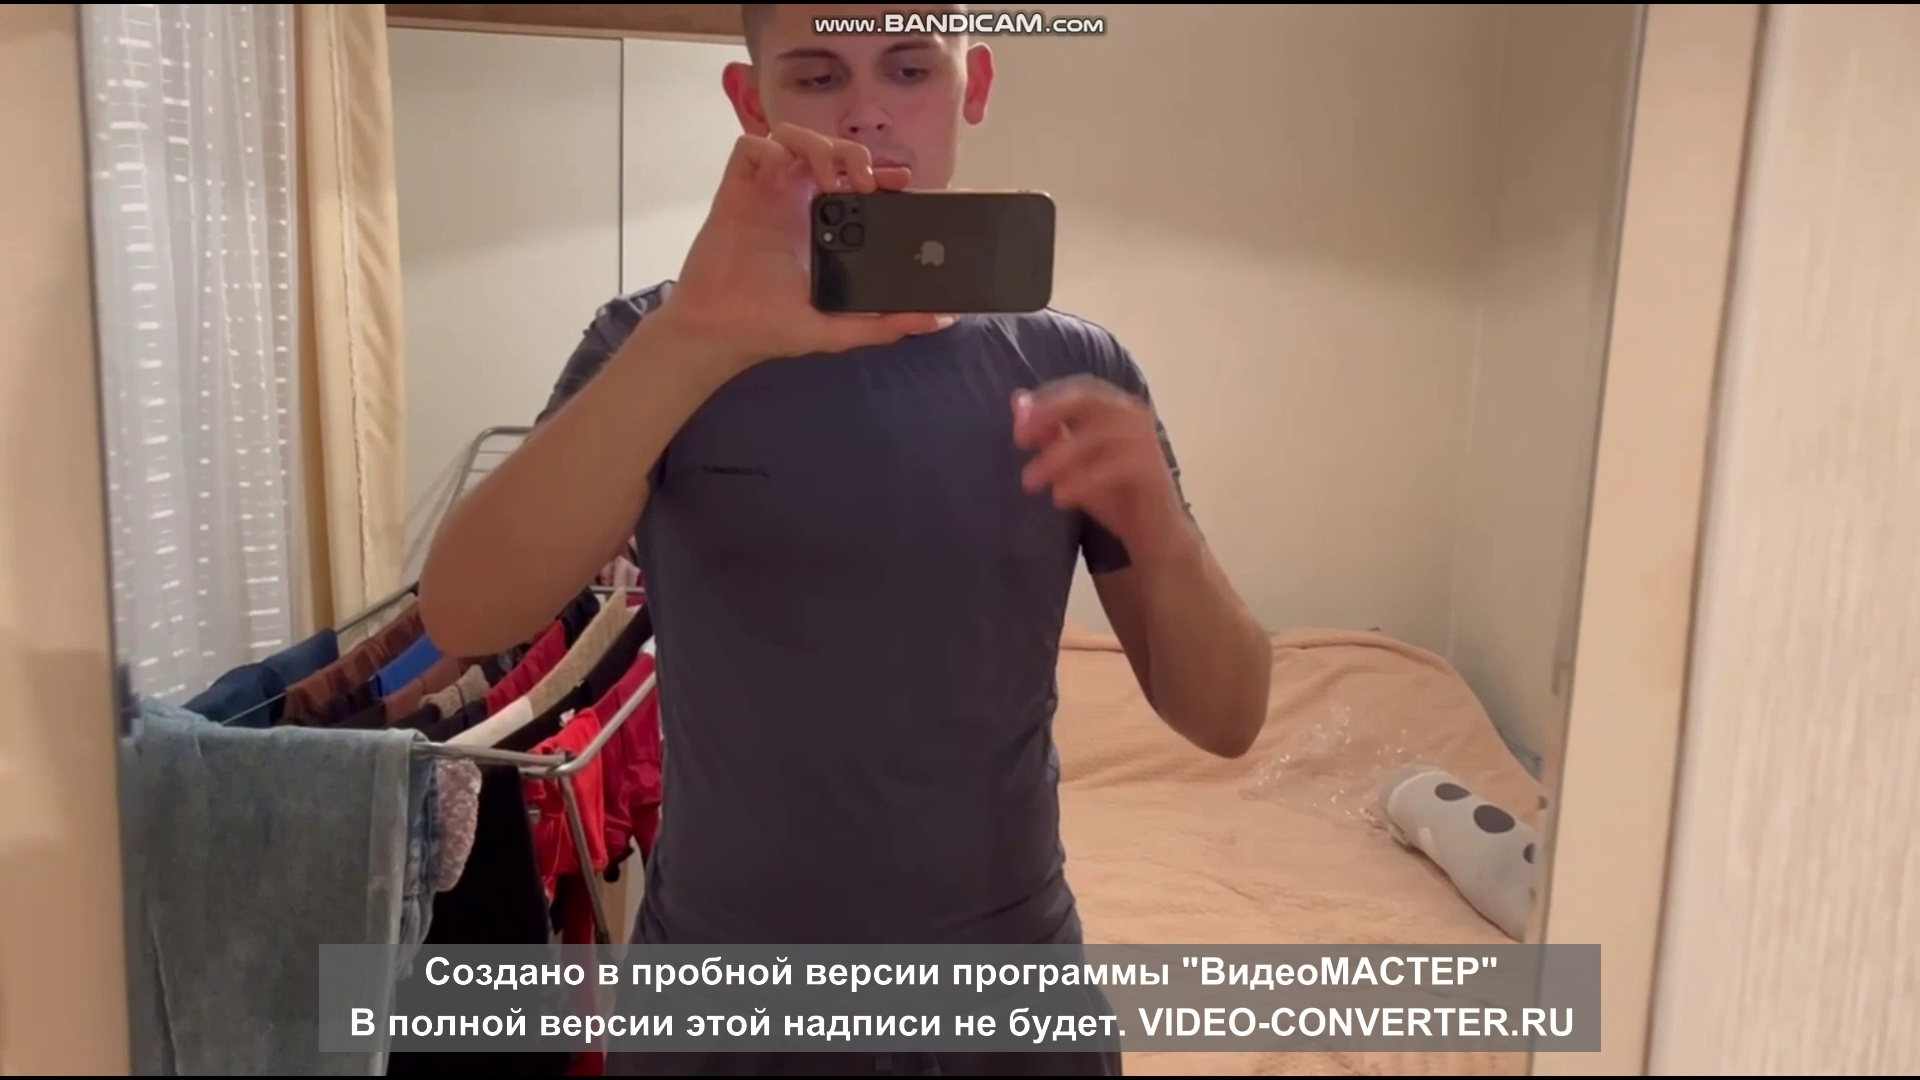Кисть: (1010, 378, 1183, 563)
